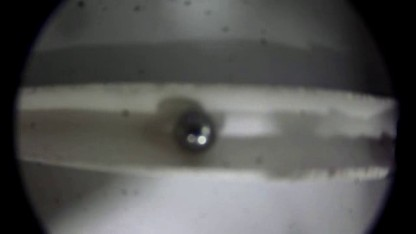gangzhu: (172, 110, 218, 153)
